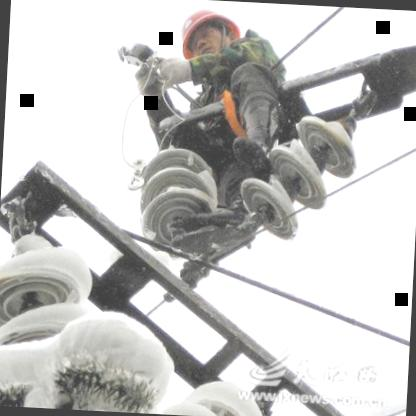helmet: (169, 0, 252, 77)
